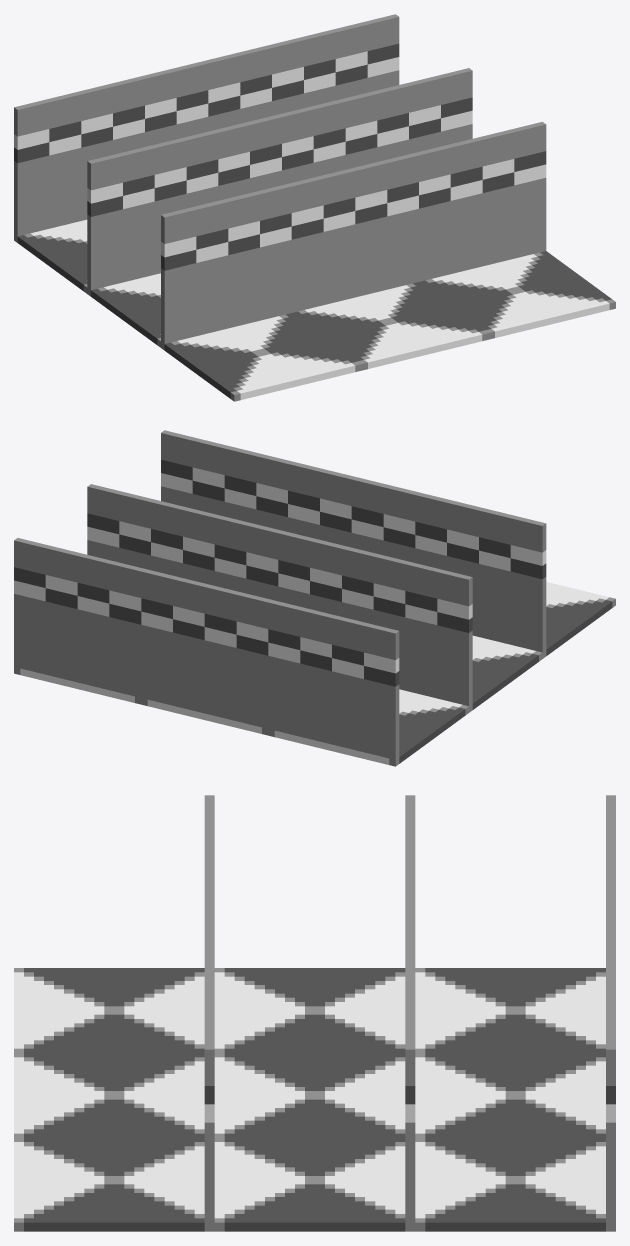
Rendered from level_maze-14.obj.
The picture shows the model from 3 angles, top to bottom: view 1: azimuth 30°, elevation 25°; view 2: azimuth 150°, elevation 25°; view 3: azimuth 270°, elevation 25°; orthographic projection. The views are drawn at different scales.
Visible parts, largest first — view 1: level_maze-14; view 2: level_maze-14; view 3: level_maze-14.
Boxes of the visible parts, x1,y1,x2,y2 form: level_maze-14: (14, 14, 615, 401); level_maze-14: (14, 430, 615, 766); level_maze-14: (14, 795, 615, 1231).
Size of the model in its own units: 60 by 20 by 60.
Materials: 1 (1 with a texture image).
